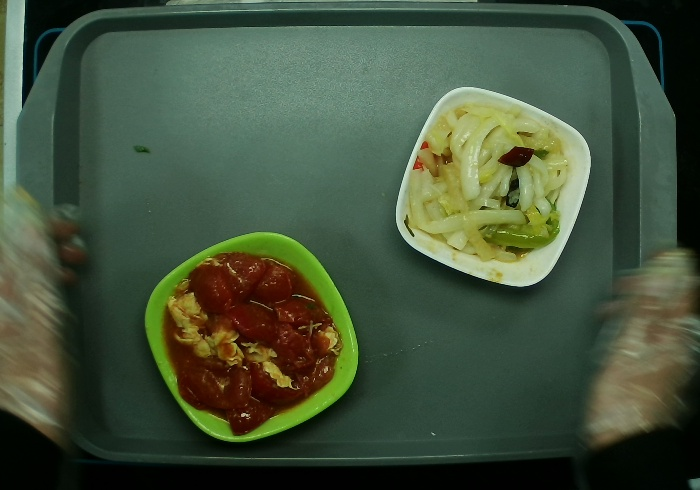SHKJ-Bai_Se_Xiao_Fang_Die: (395, 86, 591, 287)
SHKJ-Lv_Se_Cai_Die: (145, 232, 360, 442)
